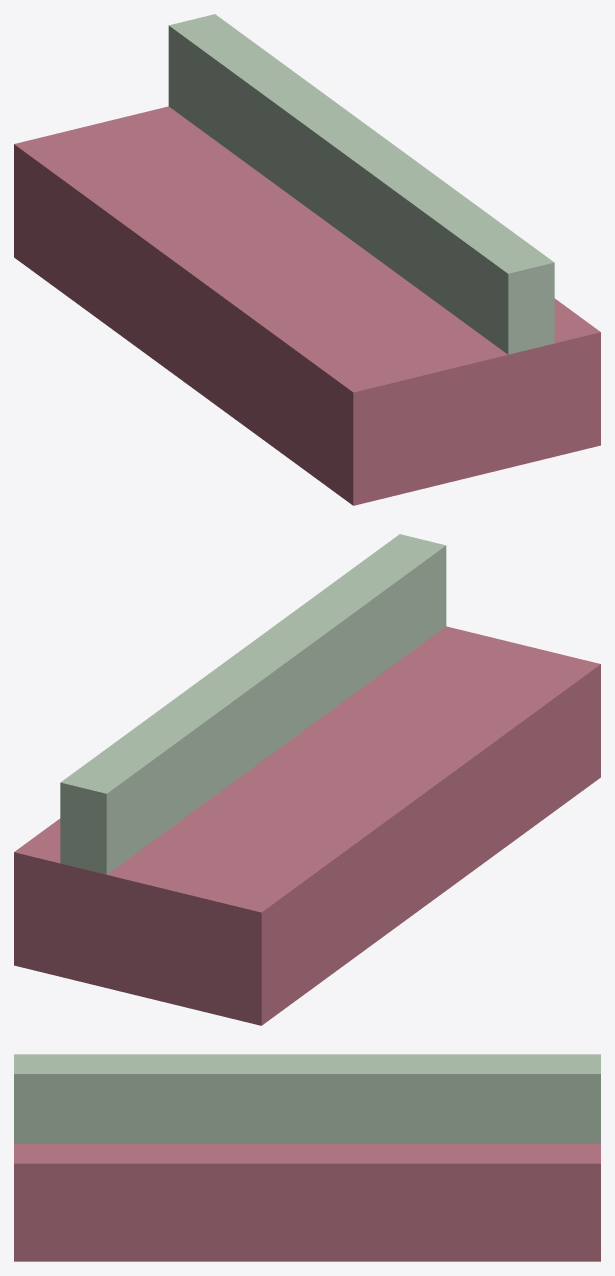
The picture shows the model from 3 angles, top to bottom: view 1: azimuth 30°, elevation 25°; view 2: azimuth 150°, elevation 25°; view 3: azimuth 270°, elevation 25°; orthographic projection. The views are drawn at different scales.
Parts seen in each view (by area): view 1: world; view 2: world; view 3: world.
Boxes of the visible parts, x1,y1,x2,y2 form: world: (14,14,600,505); world: (14,534,600,1025); world: (14,1054,600,1261).
Size of the model in its own units: 3.2 by 2.4 by 7.6.
